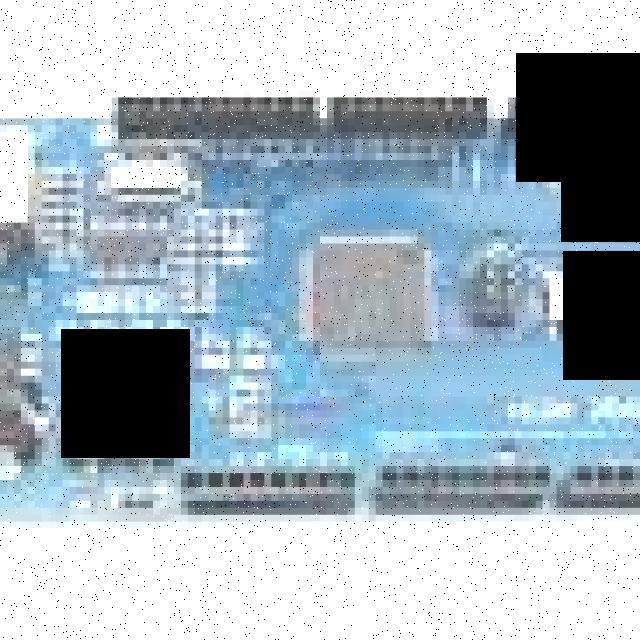arduino: (0, 97, 640, 511)
